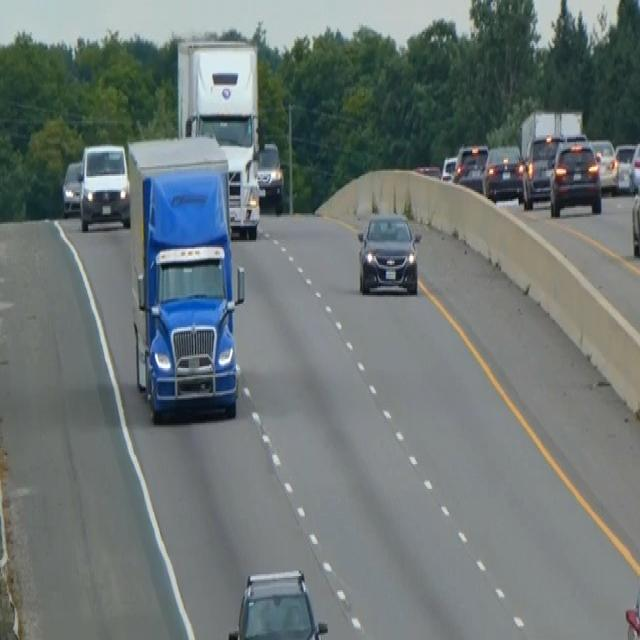car: (227, 567, 328, 637), (356, 210, 421, 295), (548, 137, 602, 217), (521, 132, 562, 206), (482, 142, 524, 203), (256, 139, 284, 213), (452, 142, 487, 192), (589, 137, 619, 194), (61, 158, 83, 217), (614, 142, 636, 192), (630, 187, 639, 256), (628, 138, 639, 194), (440, 153, 457, 181)
lorry: (124, 132, 246, 423)
minivan: (78, 141, 130, 231)
